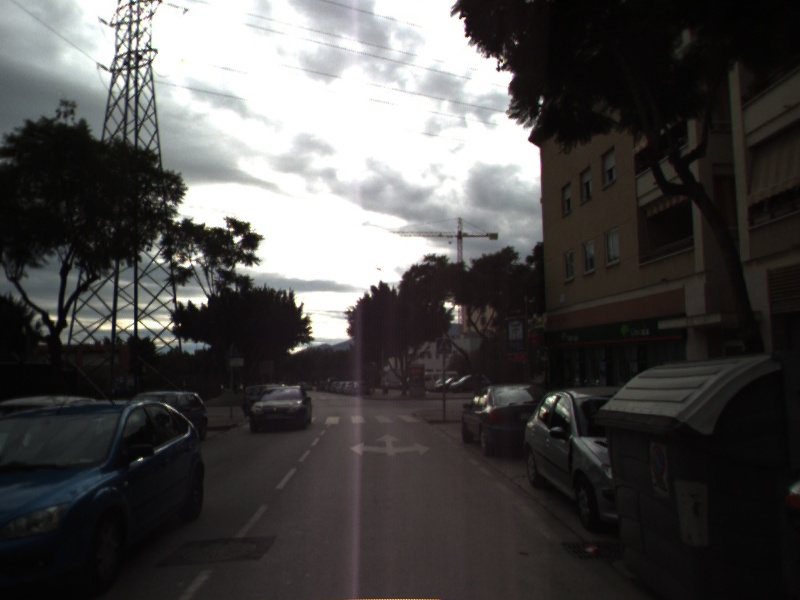STRAIGHT_LEFT_RIGHT: (348, 431, 433, 458)
